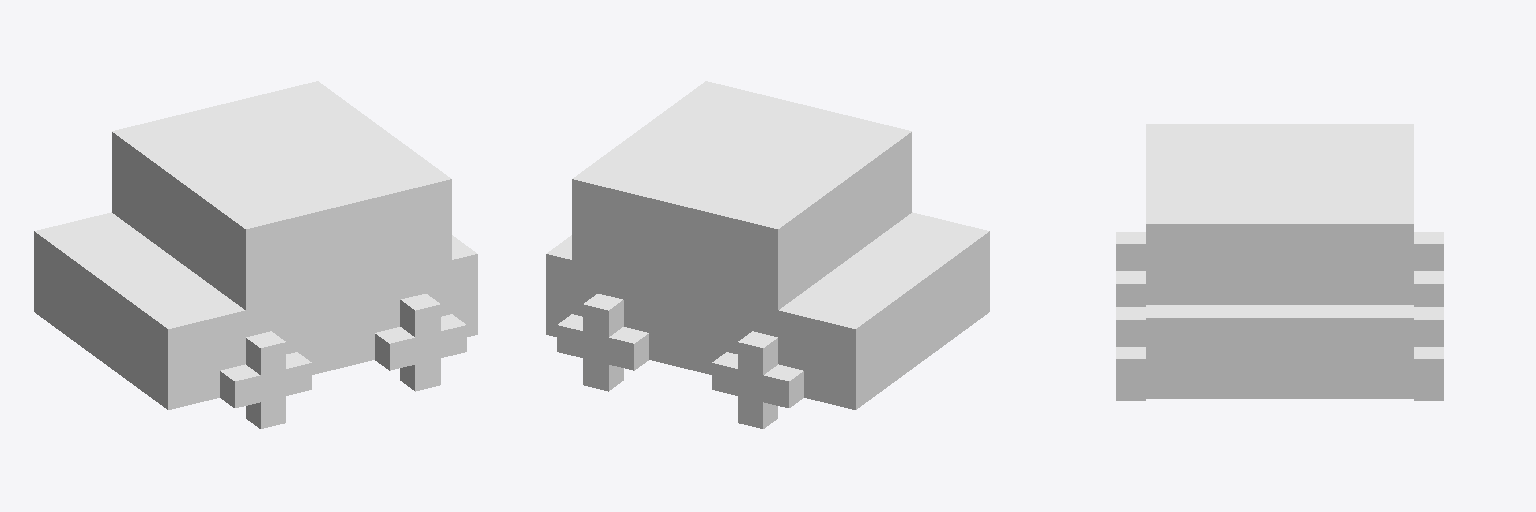
Rendered from samochod1.obj.
The picture shows the model from 3 angles: view 1: azimuth 30°, elevation 25°; view 2: azimuth 150°, elevation 25°; view 3: azimuth 270°, elevation 25°; orthographic projection.
Parts seen in each view (by area): view 1: object 1; view 2: object 1; view 3: object 1.
Boxes of the visible parts, box(x1,y1,x2,y2) form: object 1: box(34, 81, 477, 428); object 1: box(546, 81, 989, 428); object 1: box(1116, 124, 1443, 400).
Size of the model in its own units: 1.2 by 0.7 by 1.1.